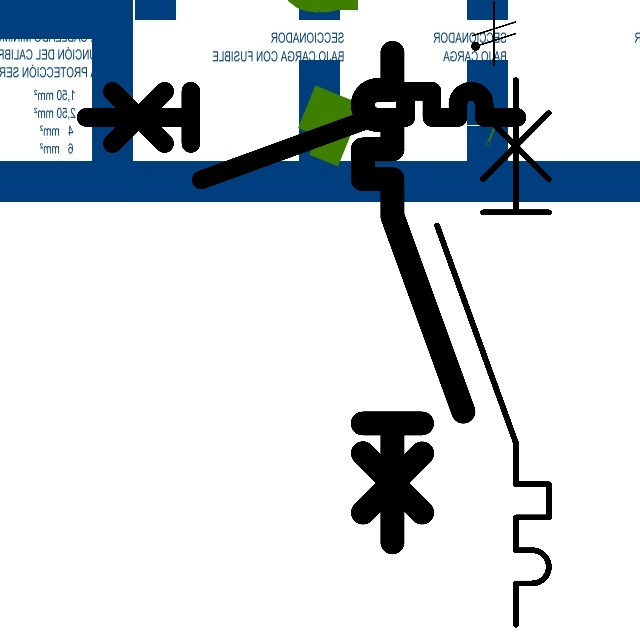interruptor_termomagnetico: (423, 65, 563, 638), (350, 40, 476, 555), (75, 80, 528, 191)
